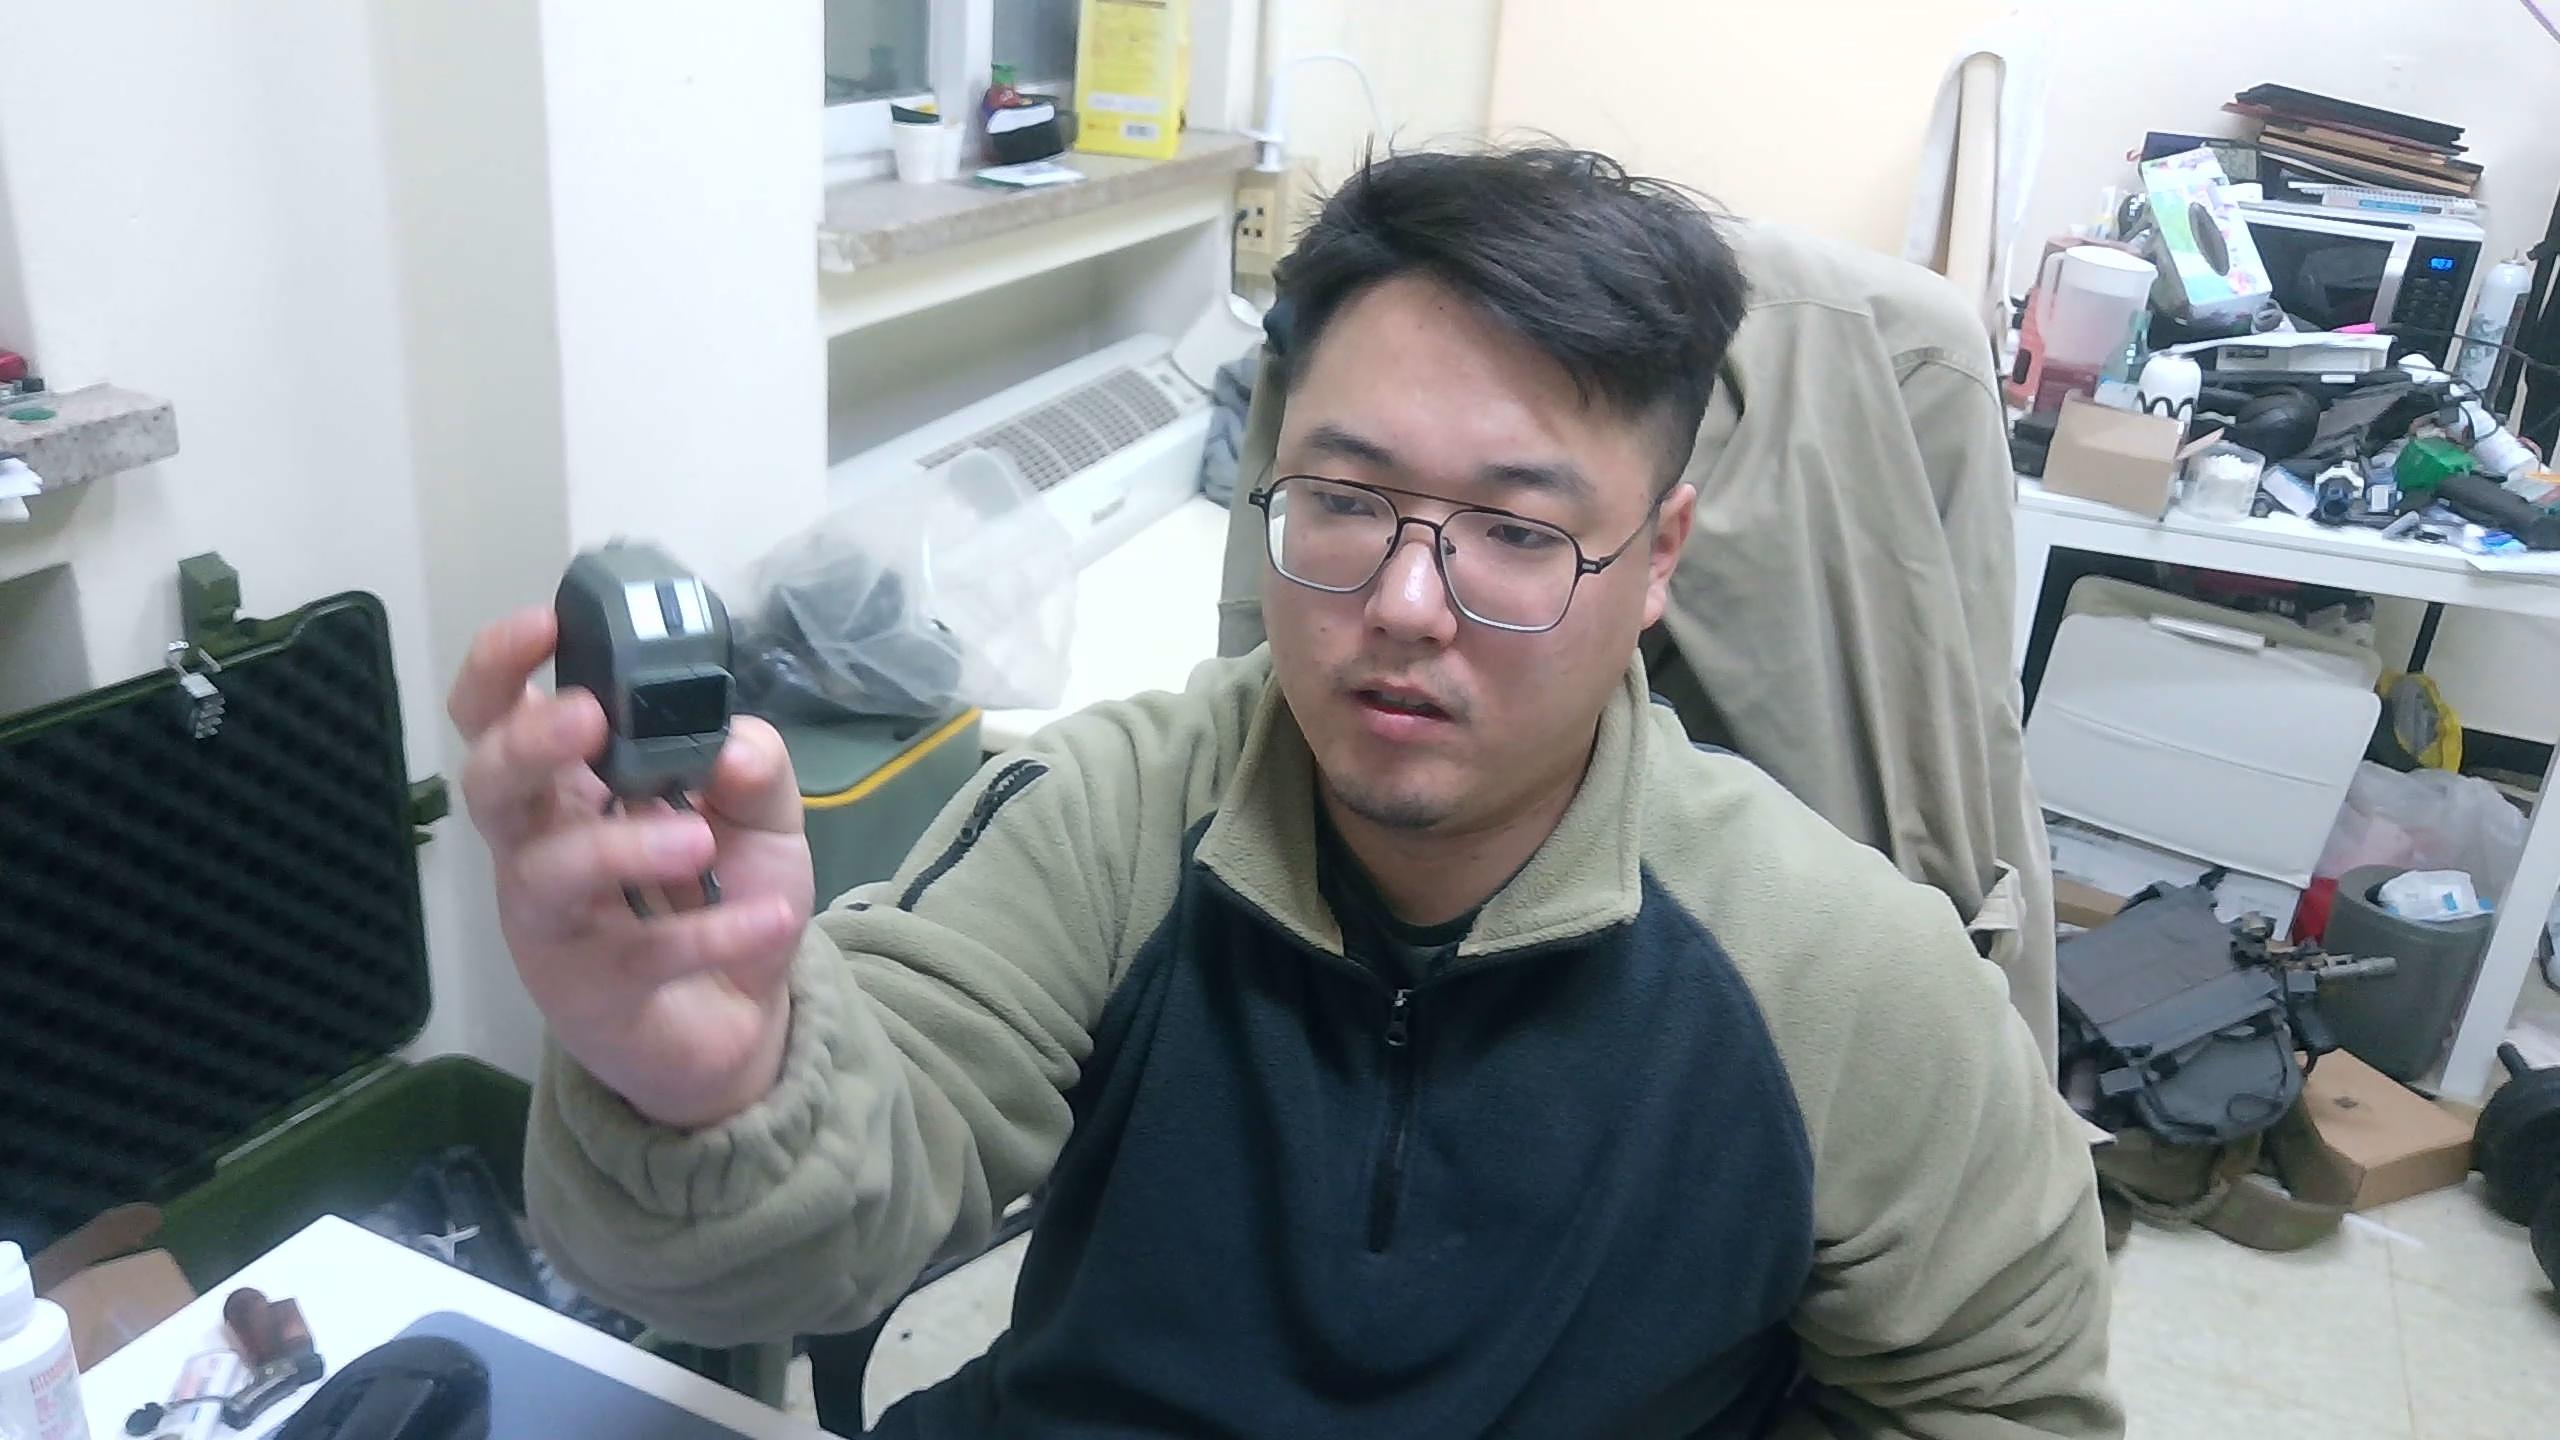blue_pliers: (552, 533, 742, 921)
